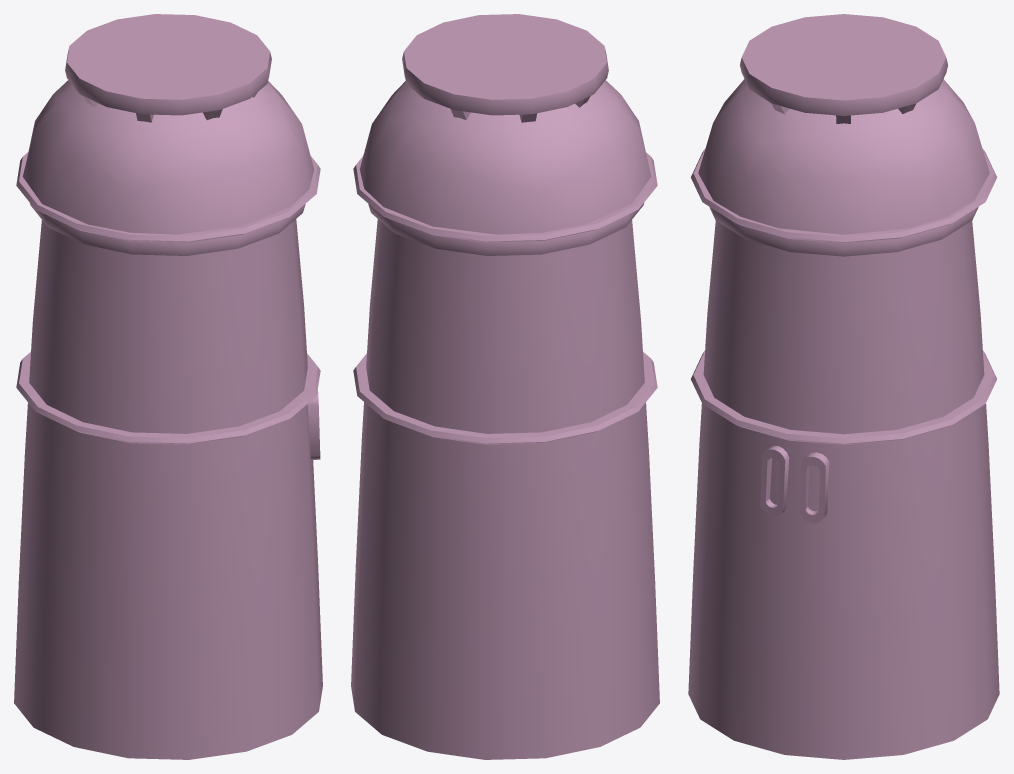
File: MESH_Moulin.fbx
3 views of the same model, side by side, from view 1: azimuth 30°, elevation 25°; view 2: azimuth 150°, elevation 25°; view 3: azimuth 270°, elevation 25° (orthographic).
Visible parts, largest first — view 1: MESH_Moulin; view 2: MESH_Moulin; view 3: MESH_Moulin.
Boxes of the visible parts, x1,y1,x2,y2 form: MESH_Moulin: [14, 14, 322, 759]; MESH_Moulin: [351, 14, 659, 759]; MESH_Moulin: [688, 14, 999, 759].
Size of the model in its own units: 4.86 by 4.86 by 10.98.
